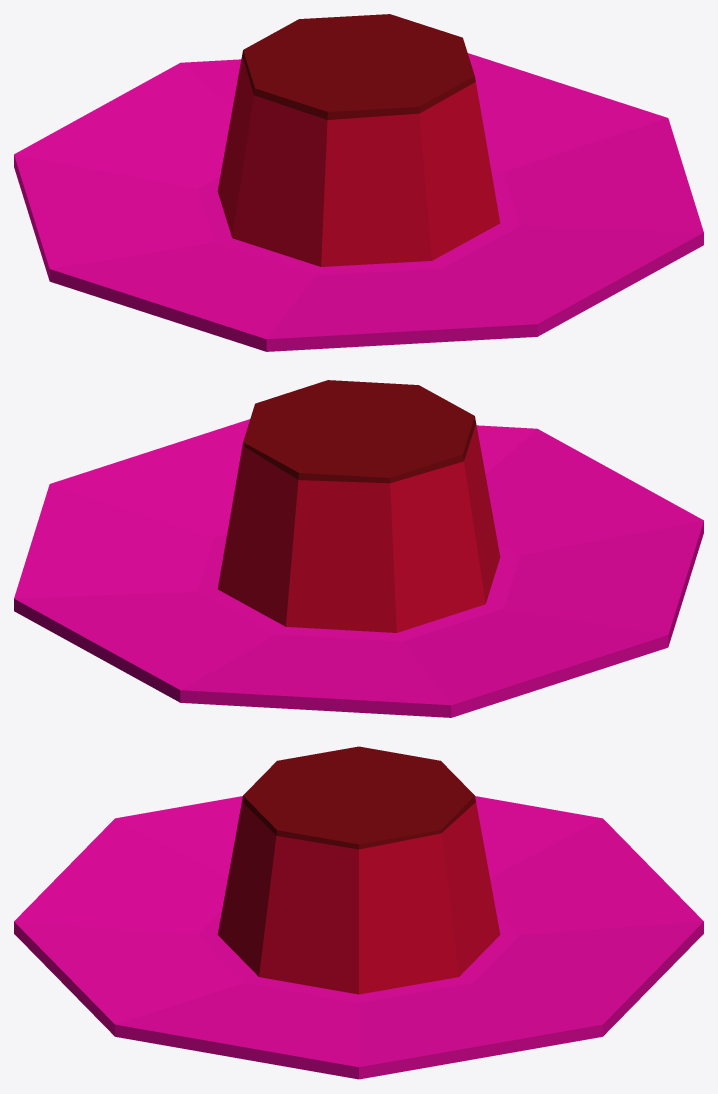
File: Flan_01.fbx
3 views of the same model, one above another, from view 1: azimuth 30°, elevation 25°; view 2: azimuth 150°, elevation 25°; view 3: azimuth 270°, elevation 25° (orthographic). The views are drawn at different scales.
Visible parts, largest first — view 1: Flan_01; view 2: Flan_01; view 3: Flan_01.
Boxes of the visible parts, left/top/right/bottom form: Flan_01: left=14, top=14, right=703, bottom=351; Flan_01: left=14, top=380, right=703, bottom=717; Flan_01: left=14, top=746, right=703, bottom=1079.
Bounding box in the file's own units: 6.83 × 1.77 × 6.83.
